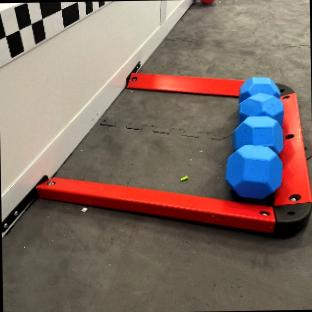V5_BLUE: (226, 145, 282, 197), (232, 115, 283, 150), (239, 92, 282, 123), (239, 77, 278, 97)
